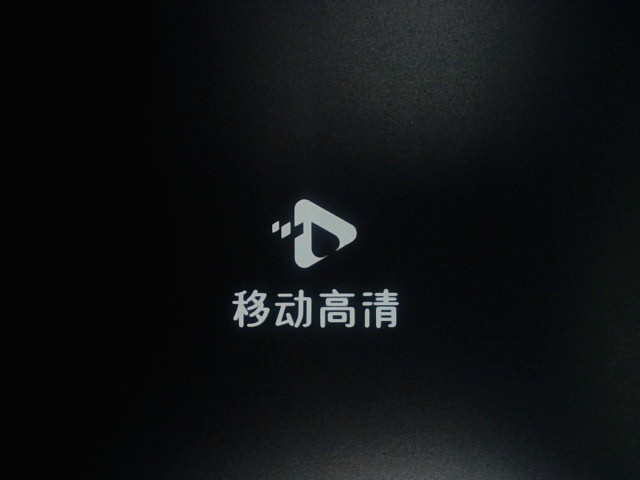AO_MobileHD: (216, 181, 426, 351)
